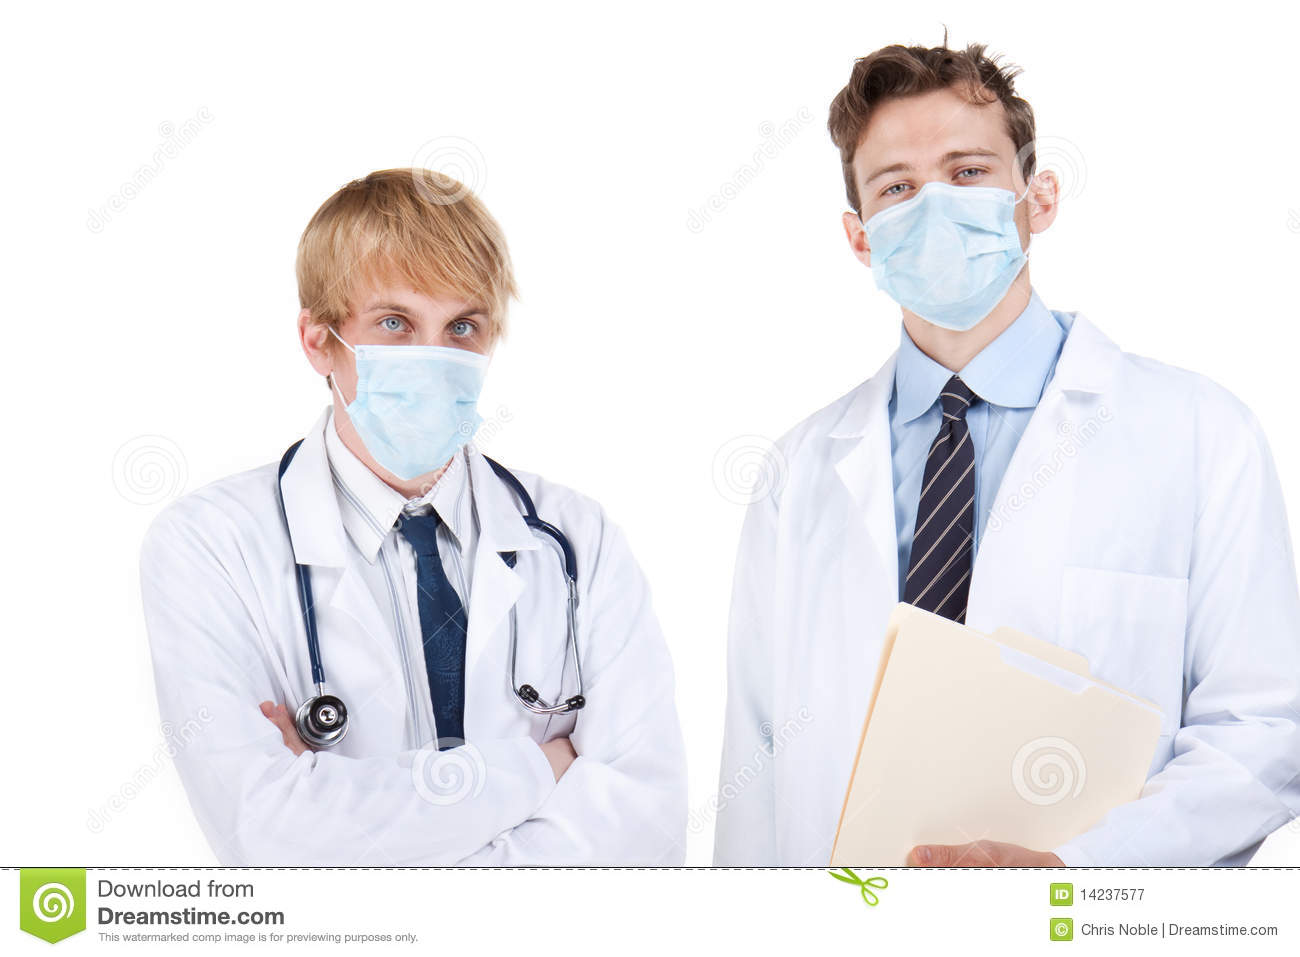mask: (860, 188, 1033, 335), (339, 345, 488, 471)
